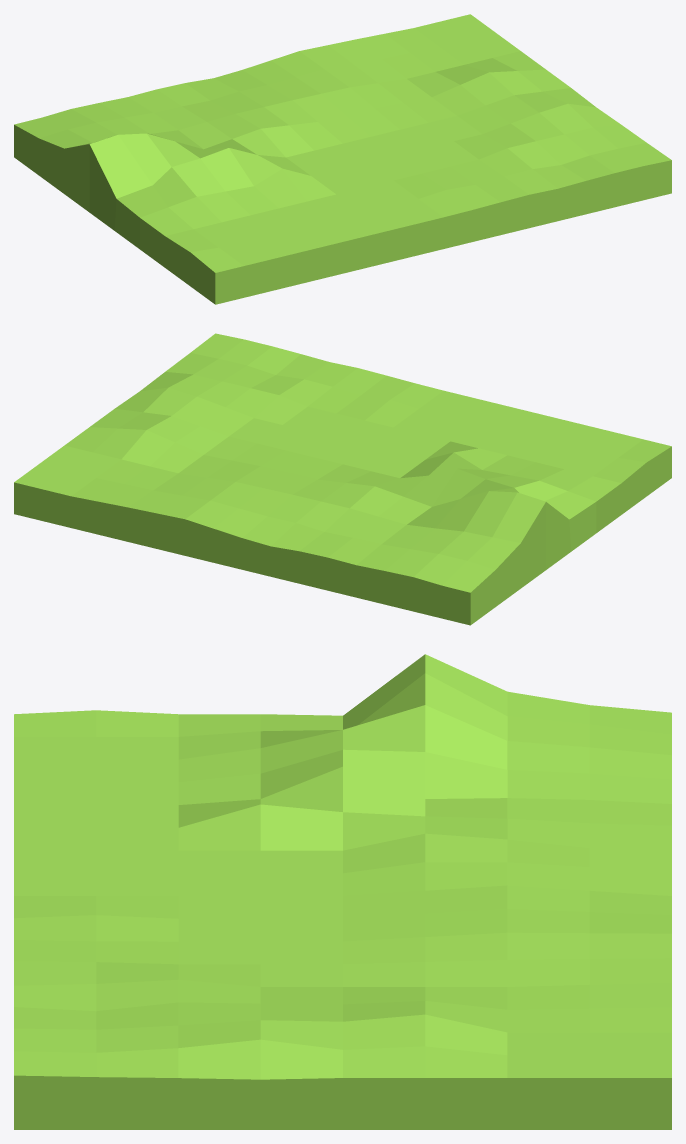
3 views of the same model, one above another, from view 1: azimuth 30°, elevation 25°; view 2: azimuth 150°, elevation 25°; view 3: azimuth 270°, elevation 25° (orthographic). The views are drawn at different scales.
Visible parts, largest first — view 1: 2/1; view 2: 2/1; view 3: 2/1.
Boxes of the visible parts, box(x1,y1,x2,y2) form: 2/1: box(14, 14, 671, 304); 2/1: box(14, 333, 671, 625); 2/1: box(14, 654, 671, 1129).
Size of the model in its own units: 5338 by 791 by 4080.
